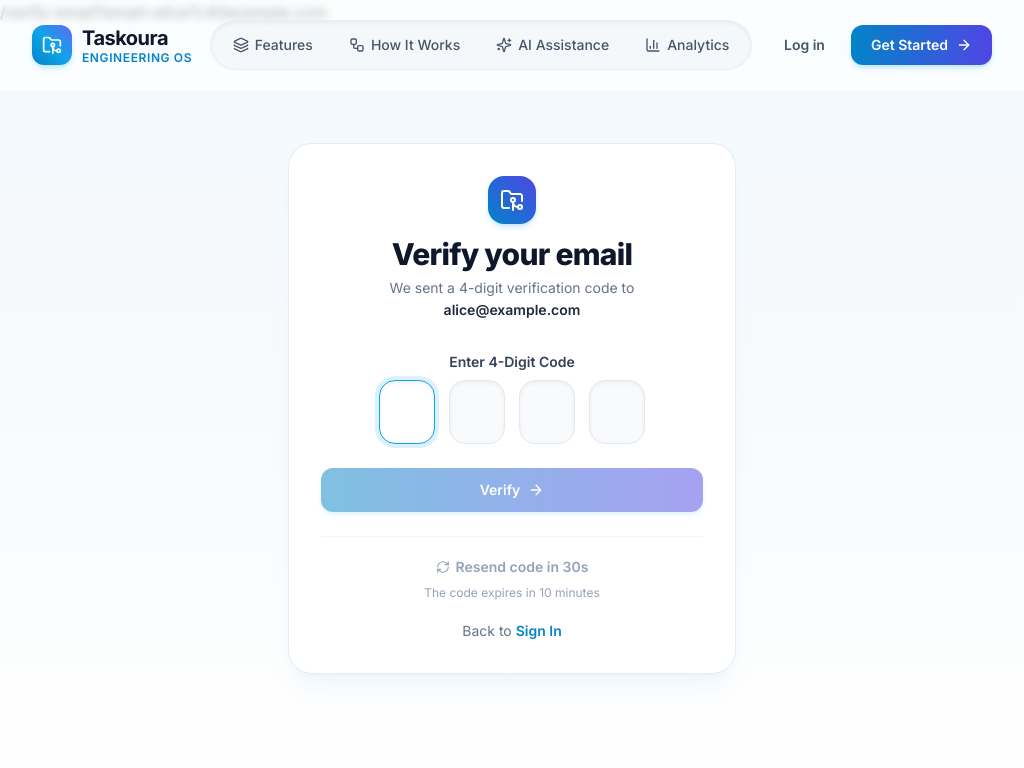
PHASE 6 (frontend): F6 Email Screens & OTP Hardening › VerifyEmailPage › on EMAIL_DELIVERY_FAILED: shows message with Retry button and does not navigate
Type "1" into the field named "Digit 1". click: (407, 412)
box: [379, 380, 435, 444]
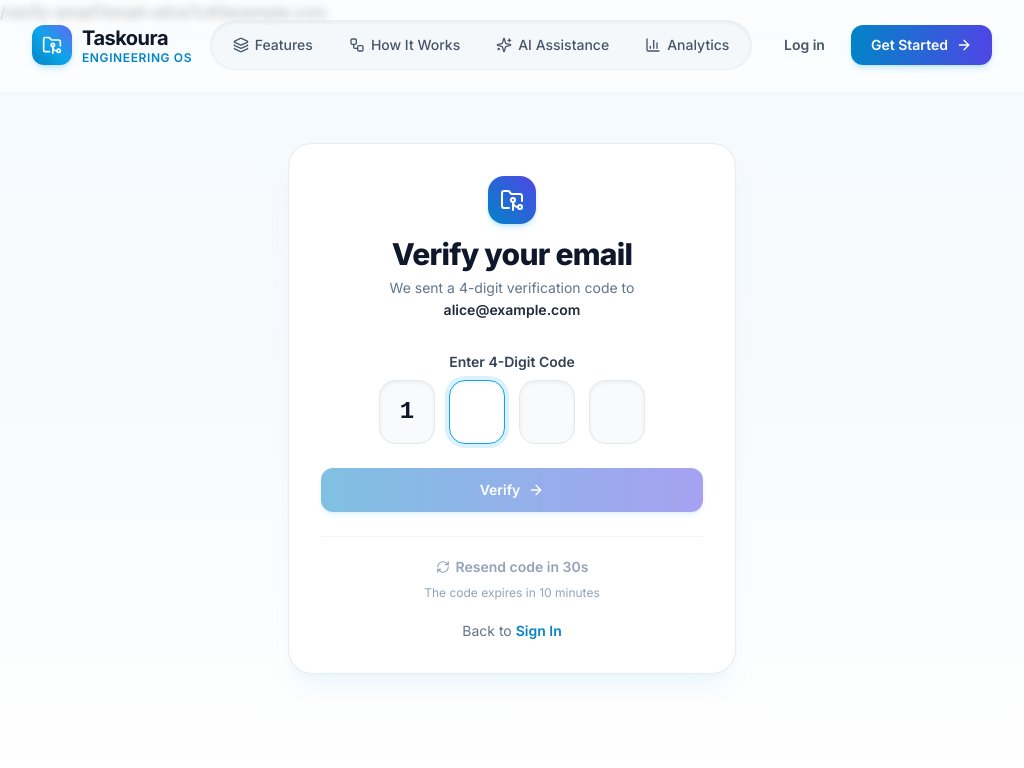
Type "2" into the field named "Digit 2". click: (477, 412)
box: [449, 380, 505, 444]
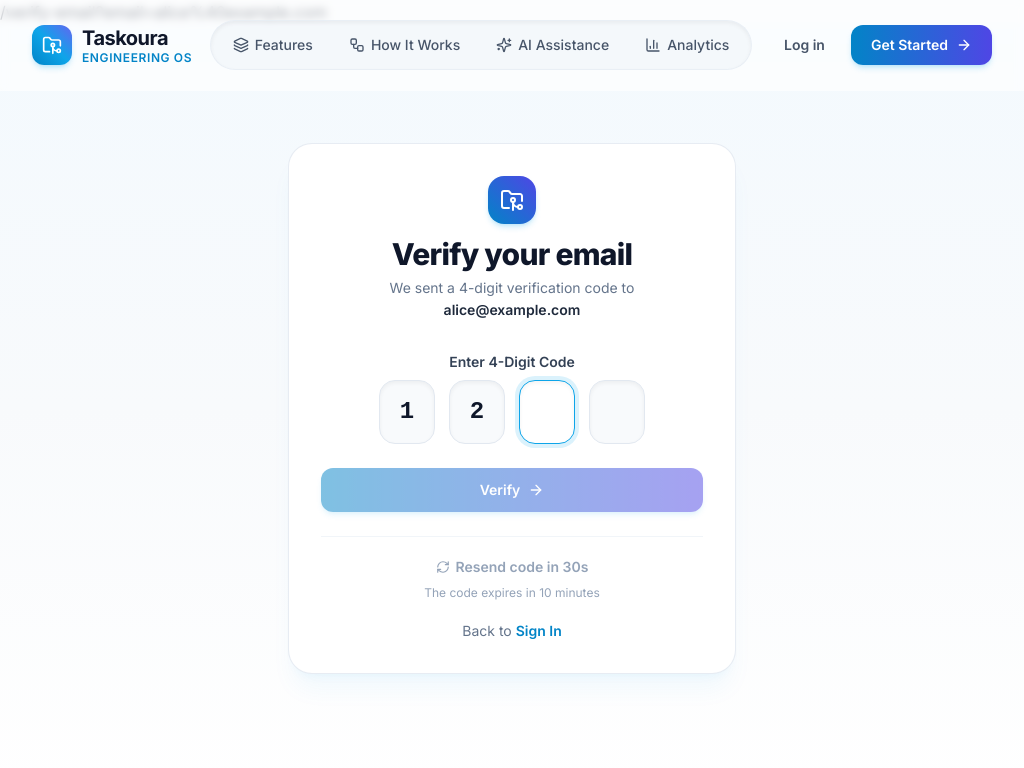
Type "3" into the field named "Digit 3". click: (547, 412)
box: [519, 380, 575, 444]
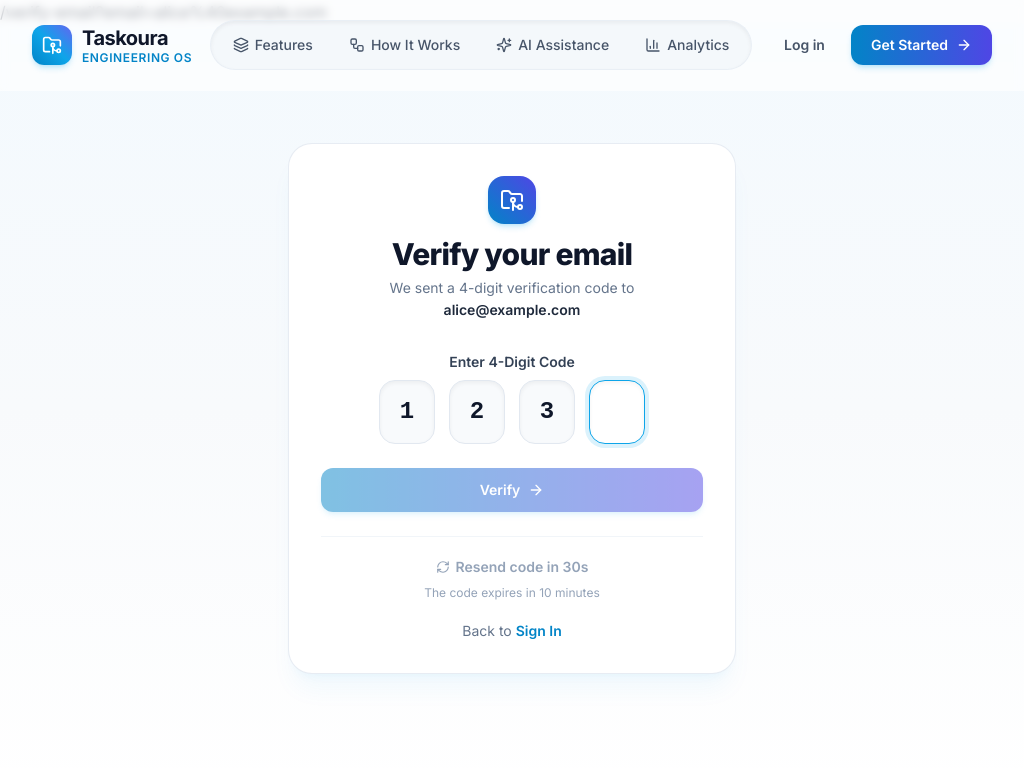
Type "4" into the field named "Digit 4". click: (617, 412)
box: [589, 380, 645, 444]
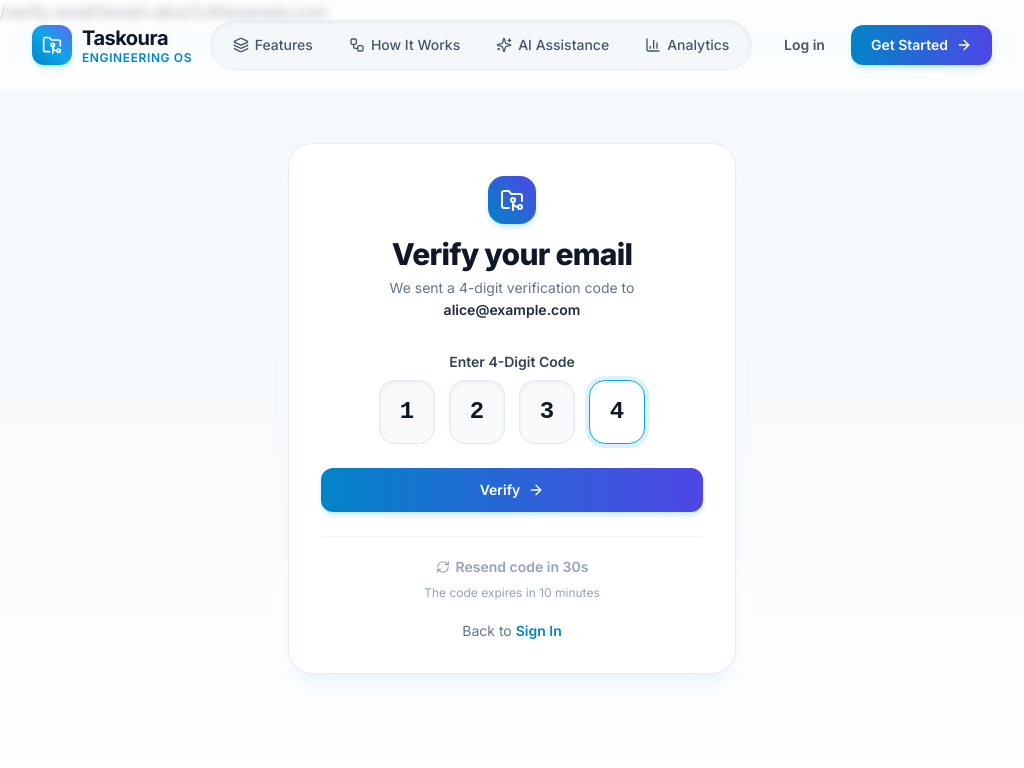
Click the button "Verify". click: (512, 490)
box: [321, 468, 703, 512]
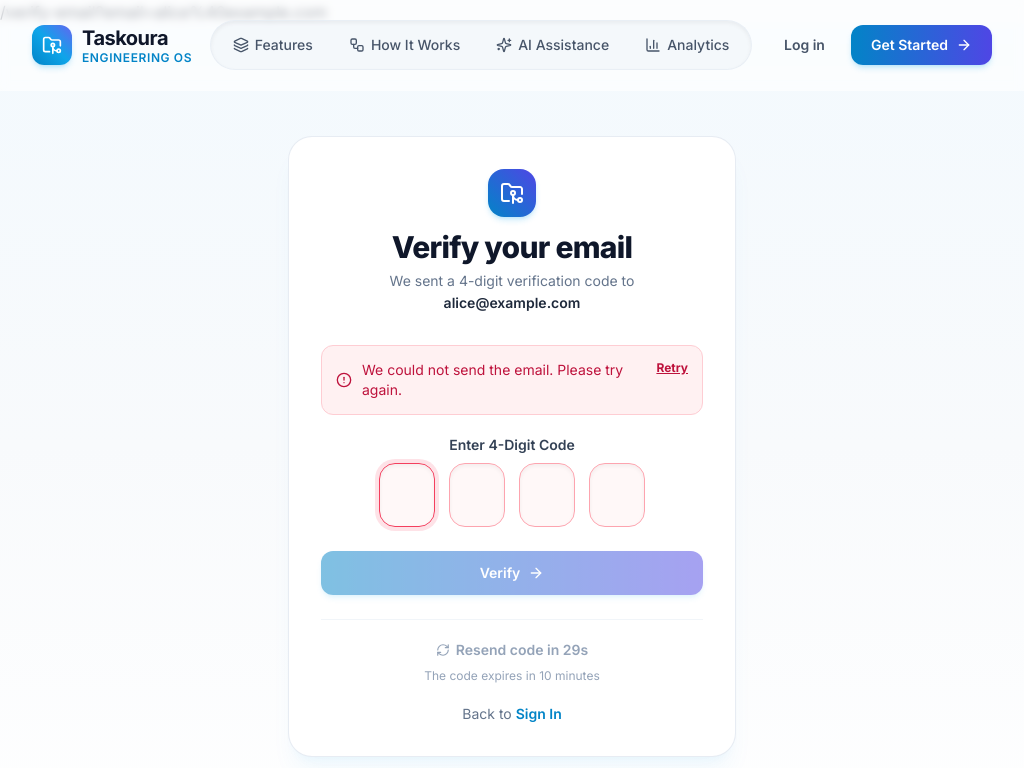
Expected: the text with test id "current-path" reads "/verify-email", [0, 2, 96, 22]
Now the text "We could not send the email. Please try again." is shown, box [362, 360, 646, 400]
Now the button with test id "btn-verify-retry" is shown, box [656, 360, 688, 376]
